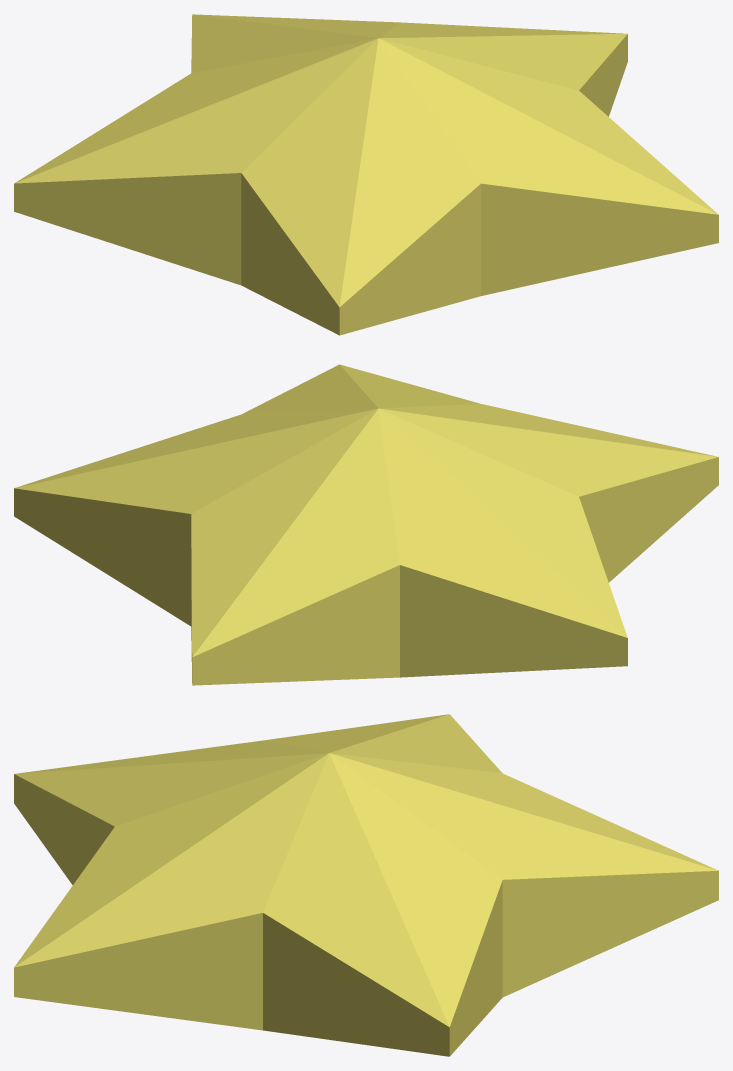
File: star projectile.fbx
3 renders of one model, top to bottom at view 1: azimuth 30°, elevation 25°; view 2: azimuth 150°, elevation 25°; view 3: azimuth 270°, elevation 25°, orthographic. The views are drawn at different scales.
Visible parts, largest first — view 1: Cylinder; view 2: Cylinder; view 3: Cylinder.
Part boxes in pixels (<box>): Cylinder: <box>14,14,718,335</box>; Cylinder: <box>14,364,718,685</box>; Cylinder: <box>14,714,718,1056</box>.
Bounding box in the file's own units: 190 × 75 × 181.
